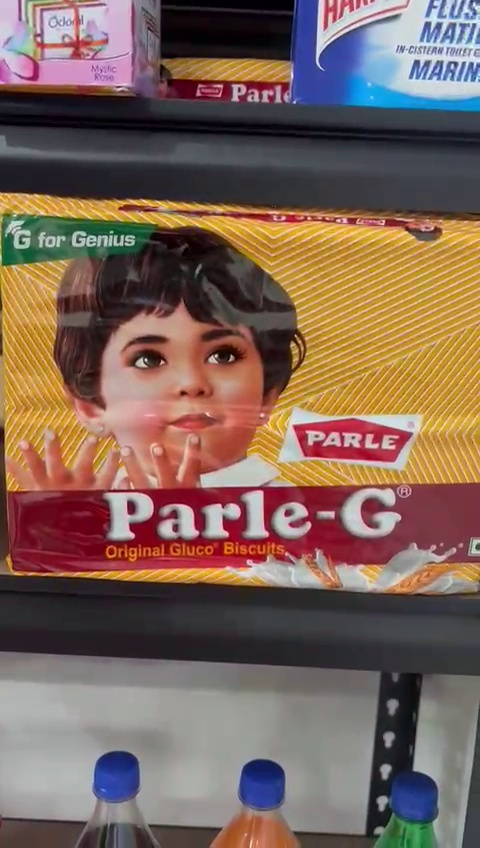Parle-G: (1, 209, 480, 593)
